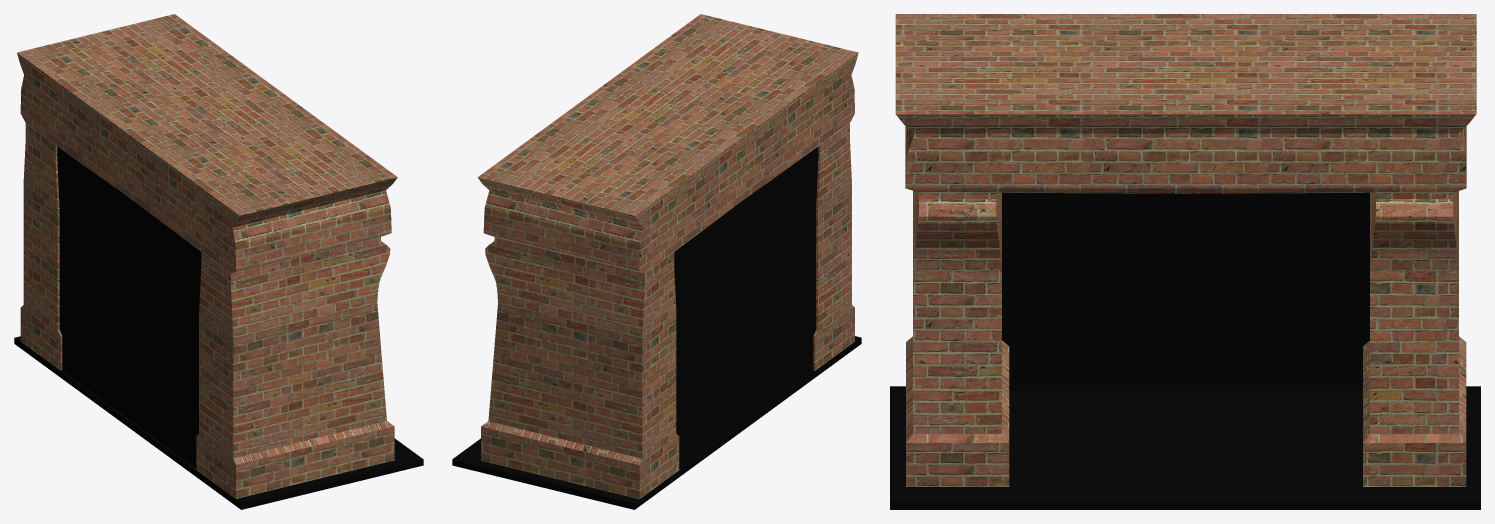
File: Kamin.fbx
3 views of the same model, side by side, from view 1: azimuth 30°, elevation 25°; view 2: azimuth 150°, elevation 25°; view 3: azimuth 270°, elevation 25° (orthographic). The views are drawn at different scales.
Parts seen in each view (by area): view 1: Cube, Plane.001; view 2: Cube, Plane.001; view 3: Cube, Plane.001.
Part boxes in pixels (<box>): Cube: <box>17,14,397,498</box>; Plane.001: <box>14,146,423,509</box>; Cube: <box>478,14,858,499</box>; Plane.001: <box>452,147,861,509</box>; Cube: <box>895,14,1476,486</box>; Plane.001: <box>890,192,1480,509</box>.
Size of the model in its own units: 146 by 224 by 315.
Materials: 2 (1 with a texture image).
